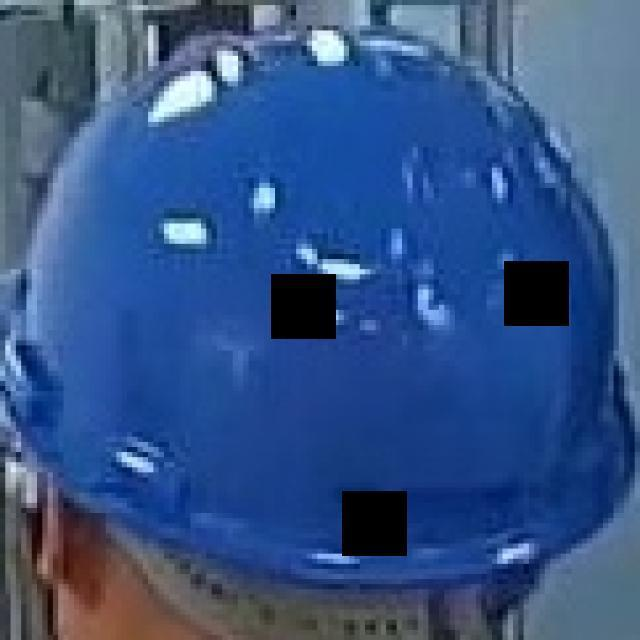blue helmet: (1, 21, 640, 614)
